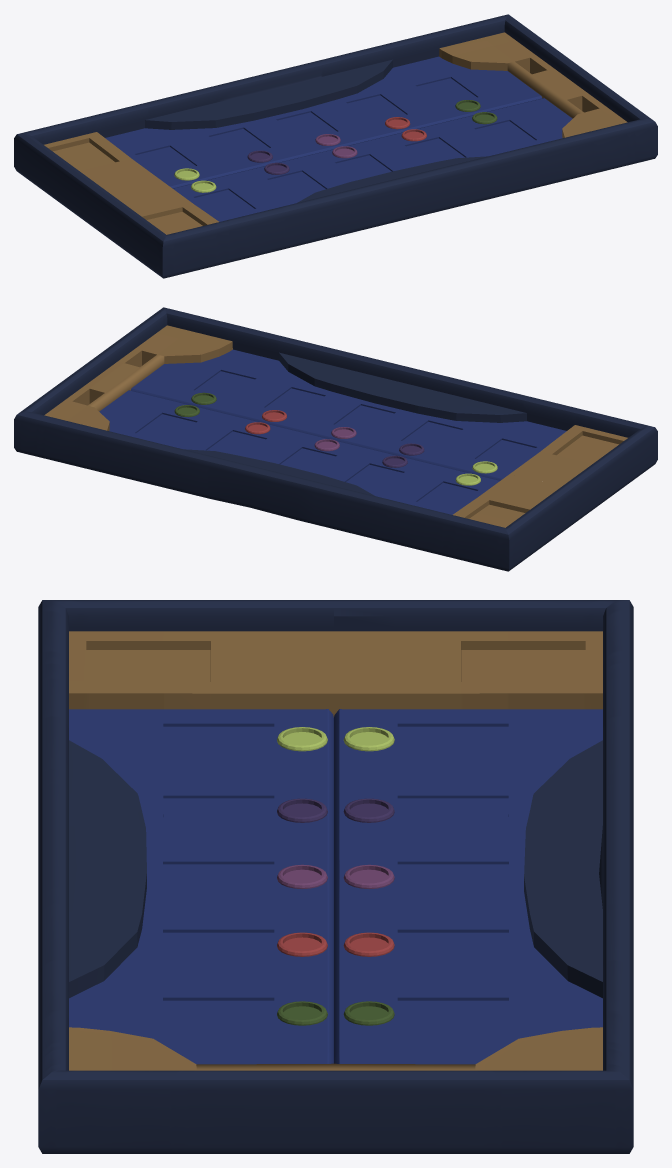
File: Old_SM_Battlefield.fbx
The picture shows the model from 3 angles, top to bottom: view 1: azimuth 30°, elevation 25°; view 2: azimuth 150°, elevation 25°; view 3: azimuth 270°, elevation 25°; orthographic projection. The views are drawn at different scales.
Visible parts, largest first — view 1: boarder, battlefield, graveyard, deck; view 2: boarder, battlefield, graveyard, deck; view 3: battlefield, boarder, graveyard, deck, circle5, circle2, circle4, circle3, circle6, circle8, circle1, circle (+2 smaller).
Part boxes in pixels (x1,y1,x2,y2): boarder: (14, 14, 657, 278); battlefield: (105, 56, 572, 221); graveyard: (44, 132, 218, 234); deck: (439, 32, 627, 137); boarder: (14, 307, 657, 571); battlefield: (99, 349, 566, 514); graveyard: (453, 425, 627, 527); deck: (44, 325, 232, 430); battlefield: (69, 709, 602, 1064); boarder: (38, 600, 633, 1153); graveyard: (69, 631, 602, 717); deck: (69, 1027, 602, 1070); circle5: (277, 1001, 327, 1025); circle2: (343, 1001, 394, 1025); circle4: (343, 727, 394, 751); circle3: (343, 798, 394, 822); circle6: (277, 932, 327, 956); circle8: (277, 798, 327, 822); circle1: (343, 932, 394, 956); circle: (343, 864, 394, 889).
Size of the model in its own units: 92.52 by 8.03 by 48.16.
